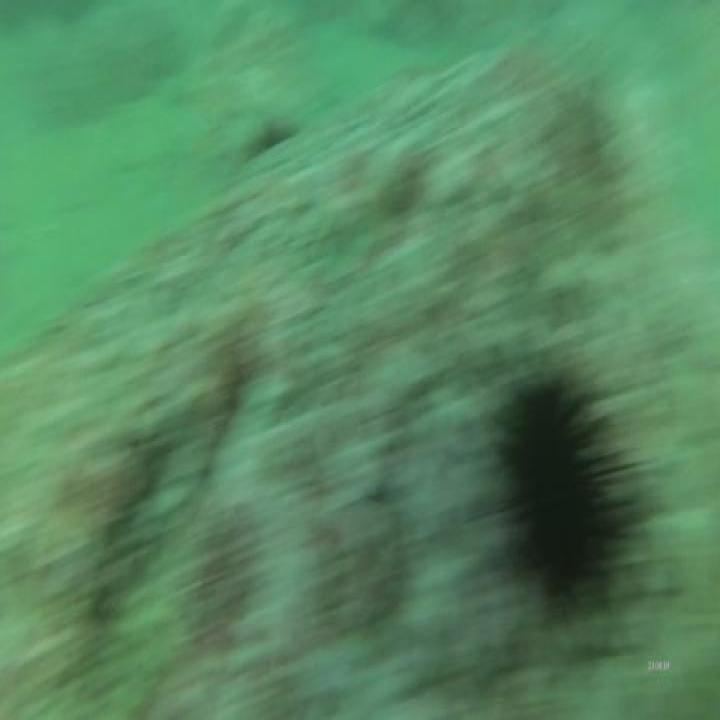echinus: (486, 354, 641, 631)
